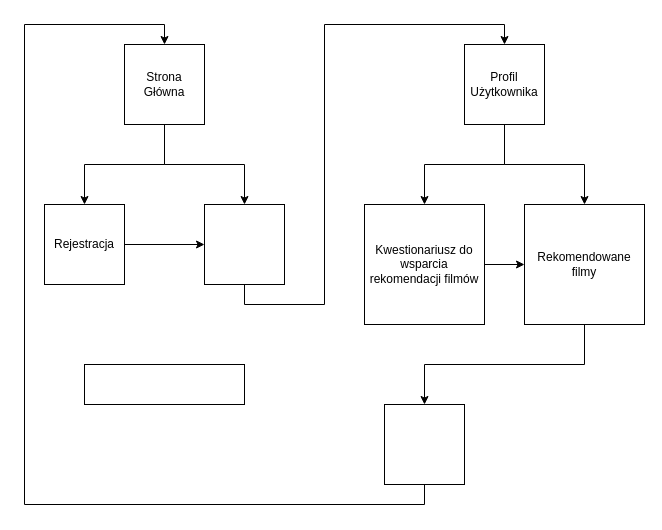
Some shapes in this 662 by 530 pixel diagram are drawn without their labels. The shapes that lost their labels are listed below. From the top down, each one's centre as x and y in pixels, then its label:
At point (244, 244): "Logowanie".
At point (164, 384): "Diagram Przewidywanego użytkowania aplikacji".
At point (424, 444): "Wylogowanie".
